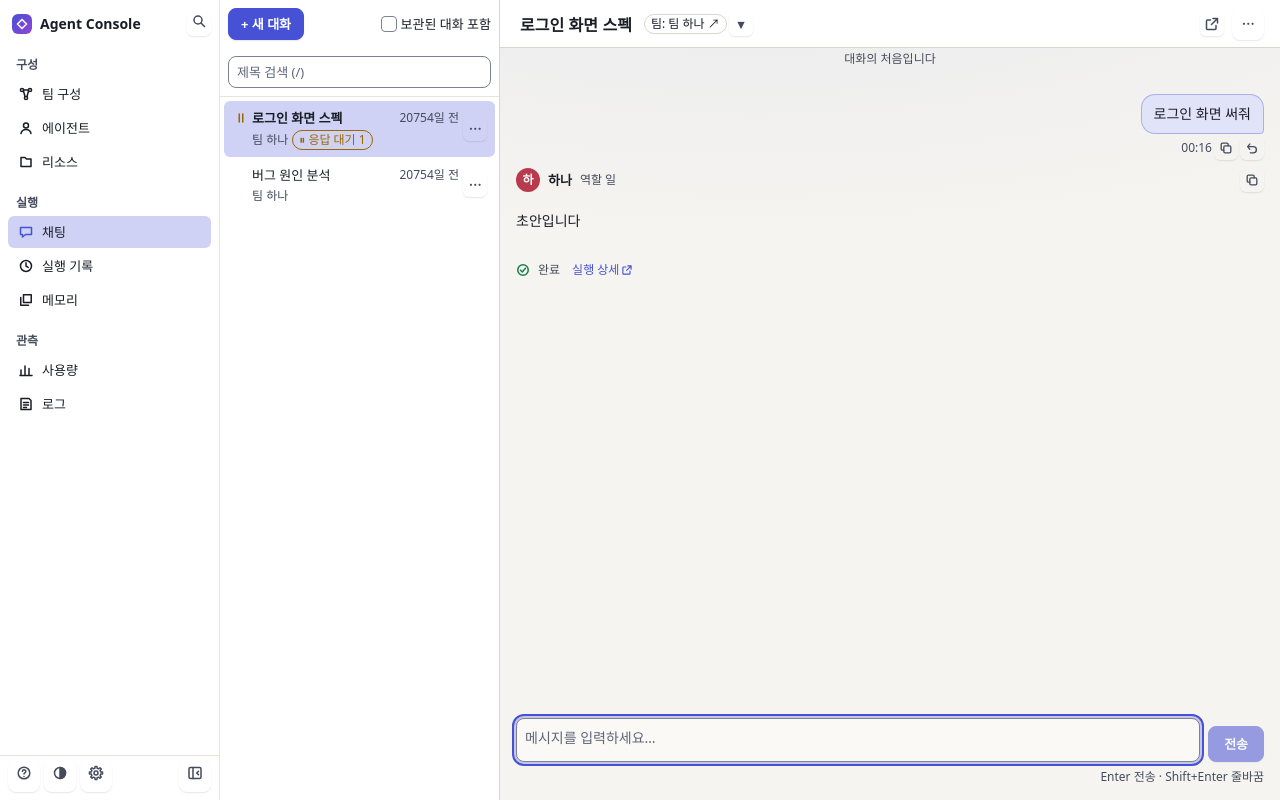
Test: 메시지 전송과 대기열 › 실행 중이어서 대기열에 들어가면 대기열 행과 안내가 보인다
The image size is (1280, 800).
expect the text "초안입니다" is shown: met, box [516,211,580,230]
Step 1. Type "뒤 메시지" into the text box named "메시지 입력" → (858, 740), box [516,718,1200,762]
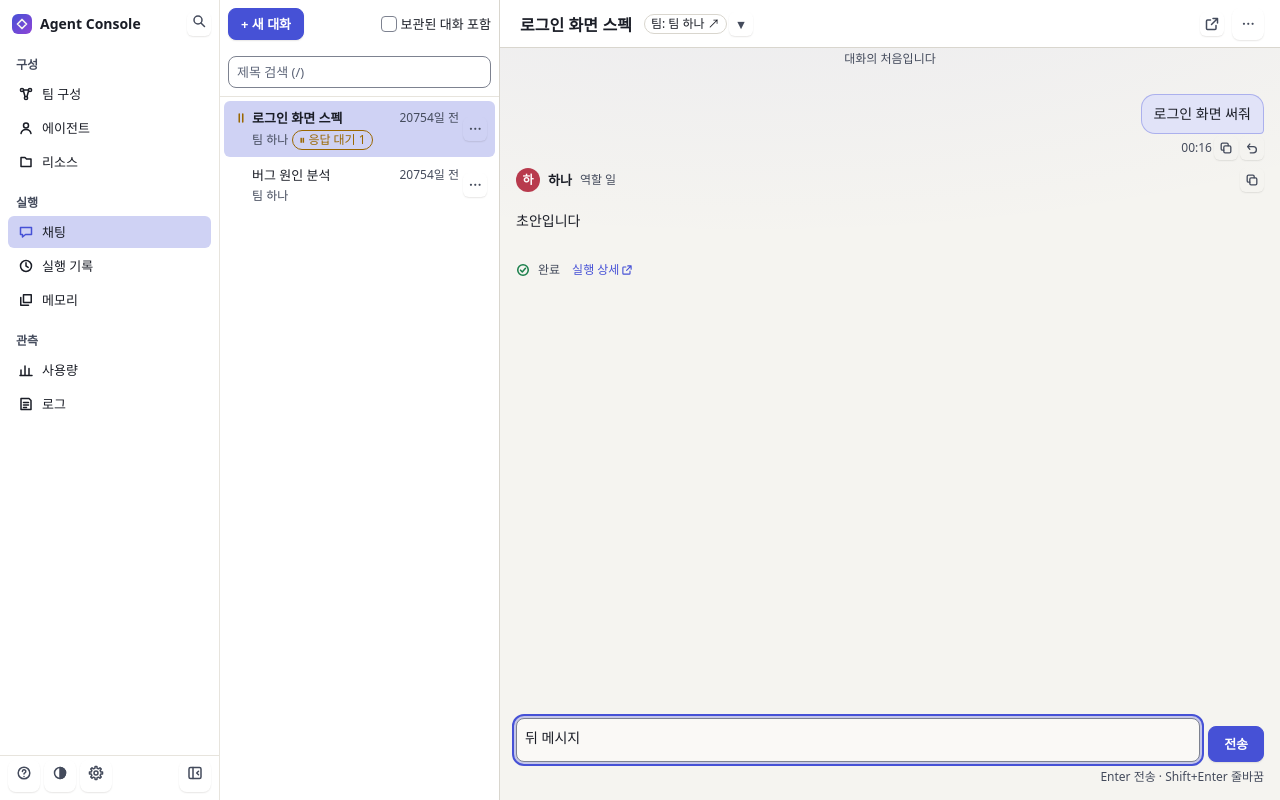
Step 2. Click the button "전송" → (1236, 744), box [1208,726,1264,762]
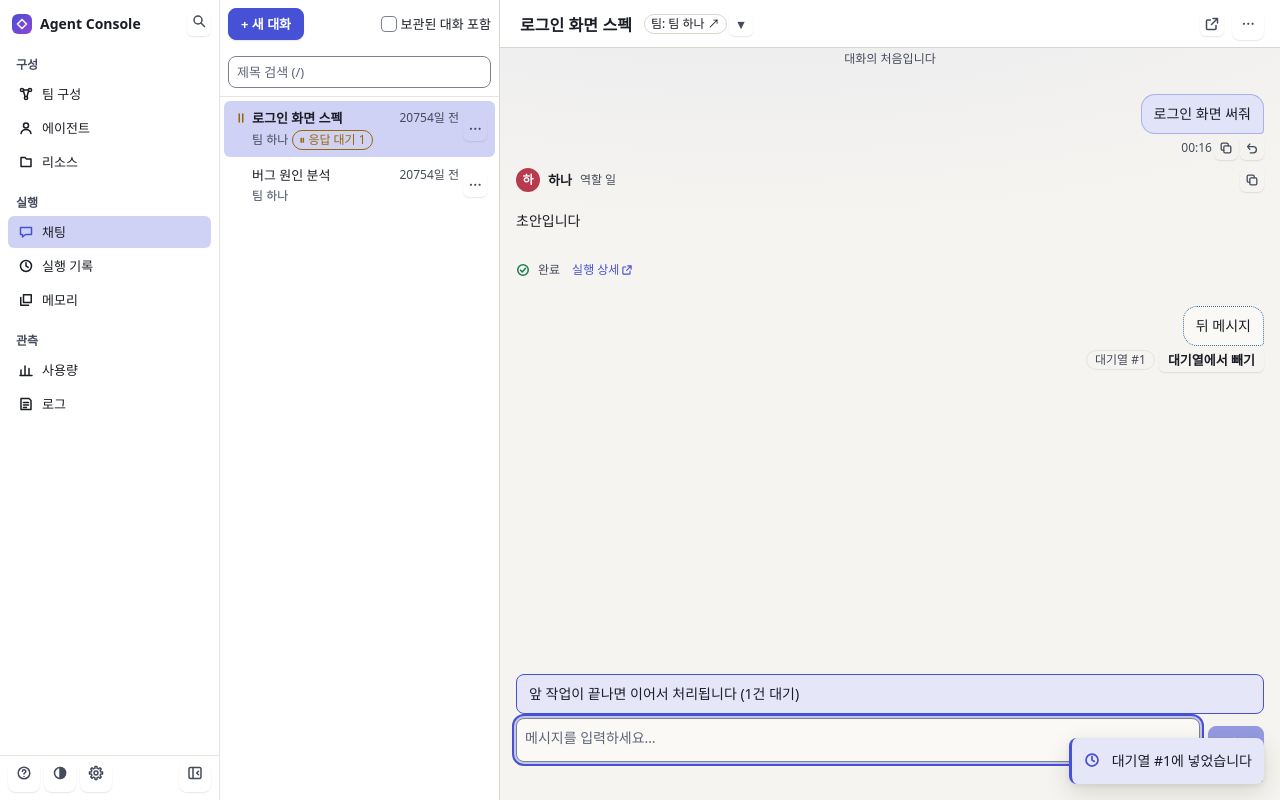
expect the text "대기열 #1" is shown: met, box [1086,350,1155,370]
expect the text "앞 작업이 끝나면 이어서 처리됩니다 (1건 대기)" is shown: met, box [516,674,1264,714]
